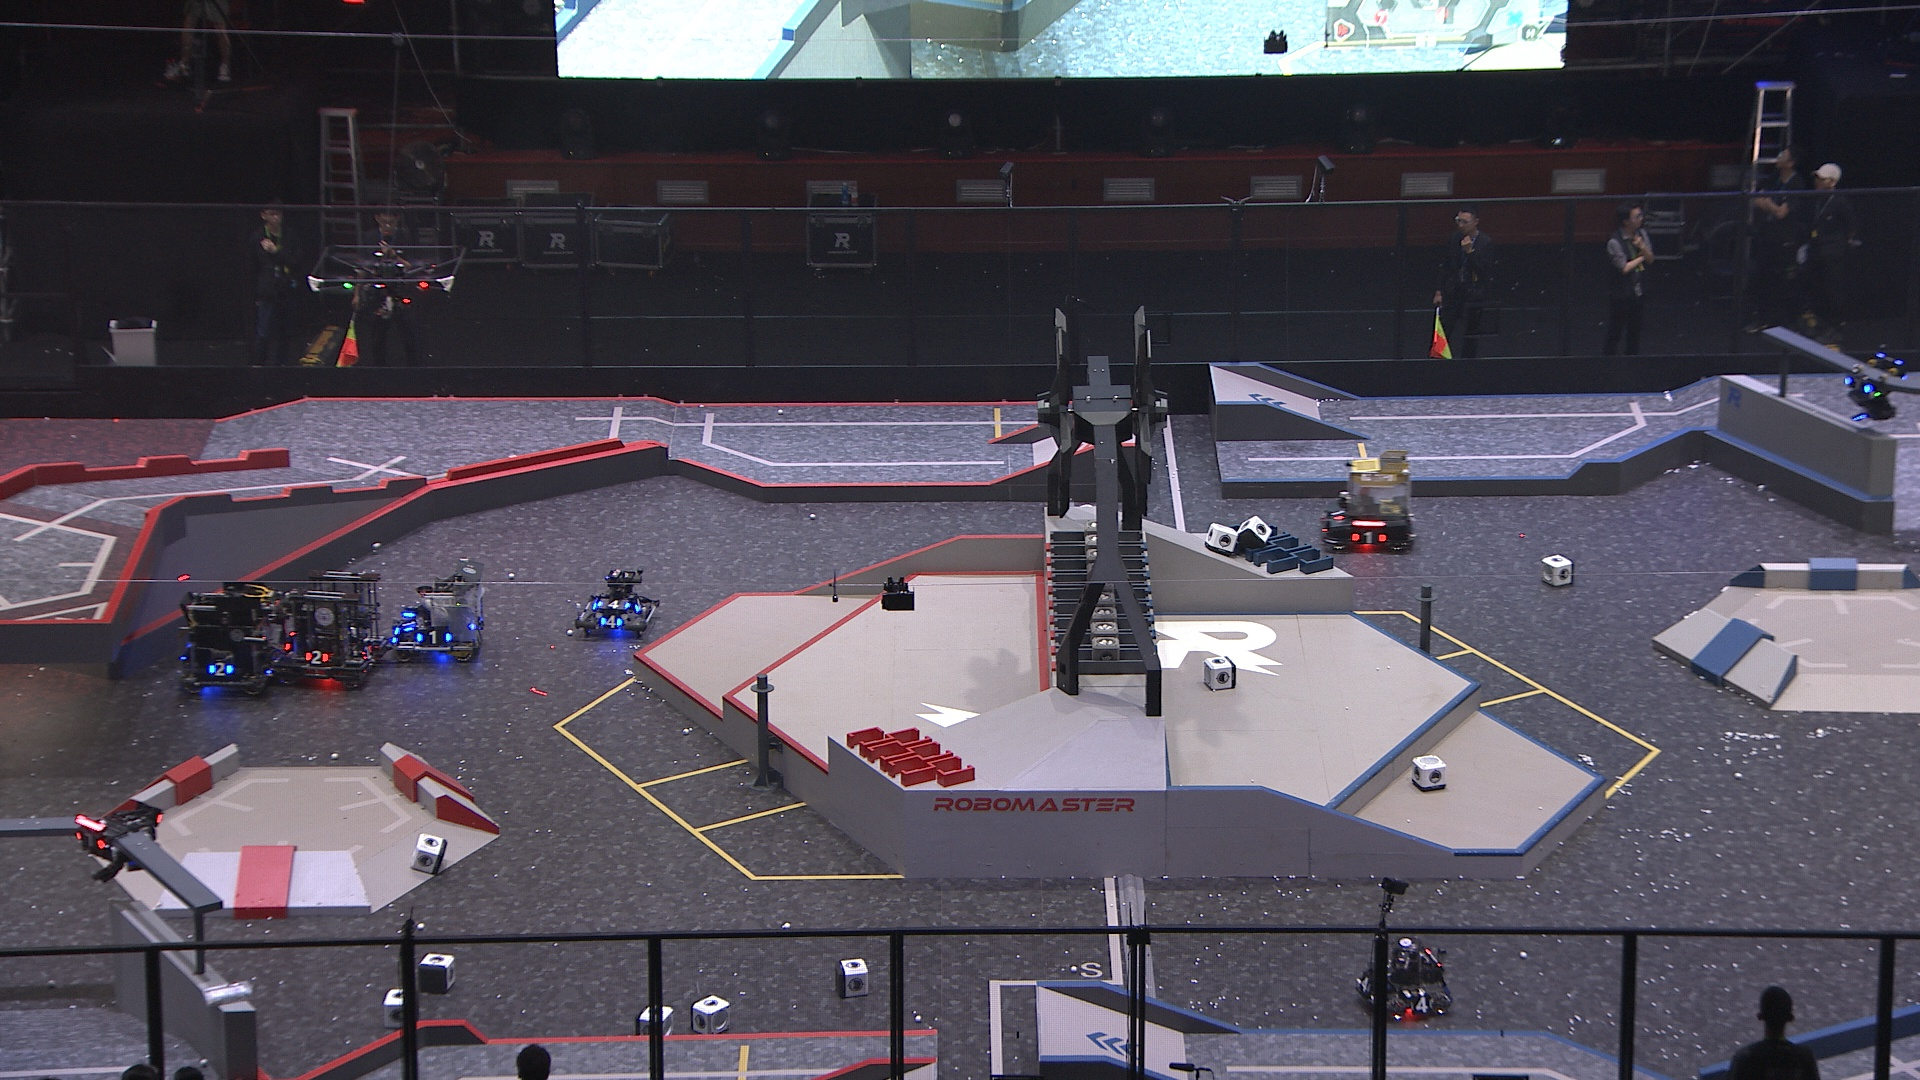armor: (73, 827, 105, 853), (417, 628, 452, 646), (1348, 529, 1389, 545), (1842, 376, 1874, 396), (1408, 994, 1437, 1015), (593, 595, 632, 611), (396, 613, 423, 633), (207, 659, 235, 679), (305, 647, 330, 669), (599, 613, 624, 632), (1356, 973, 1371, 997), (357, 642, 376, 661), (1328, 505, 1344, 524), (632, 595, 647, 613)
car: (277, 556, 394, 692), (174, 578, 282, 699), (384, 556, 495, 665), (1319, 447, 1419, 556), (1348, 936, 1458, 1025), (572, 564, 659, 638)
watcher: (69, 802, 166, 880), (1840, 342, 1911, 423)
